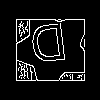D: (28, 23, 70, 72)
